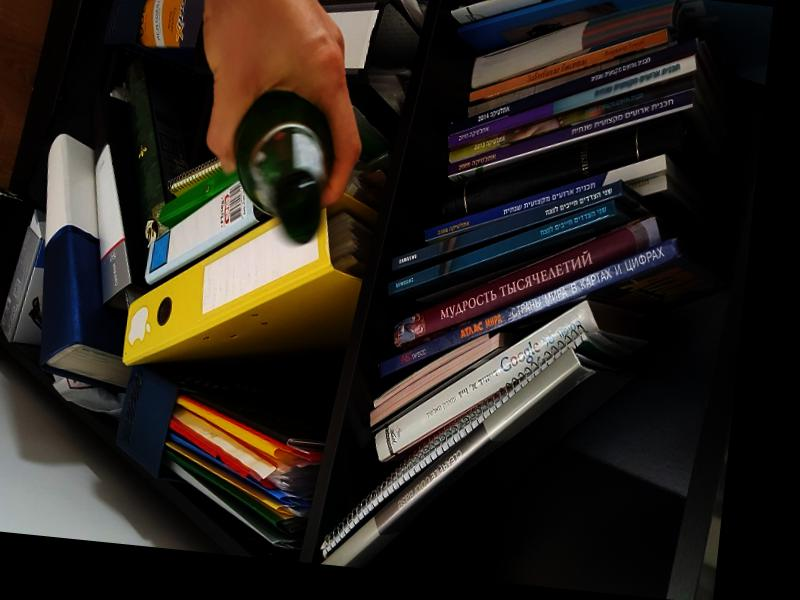Beer: (225, 86, 338, 245)
